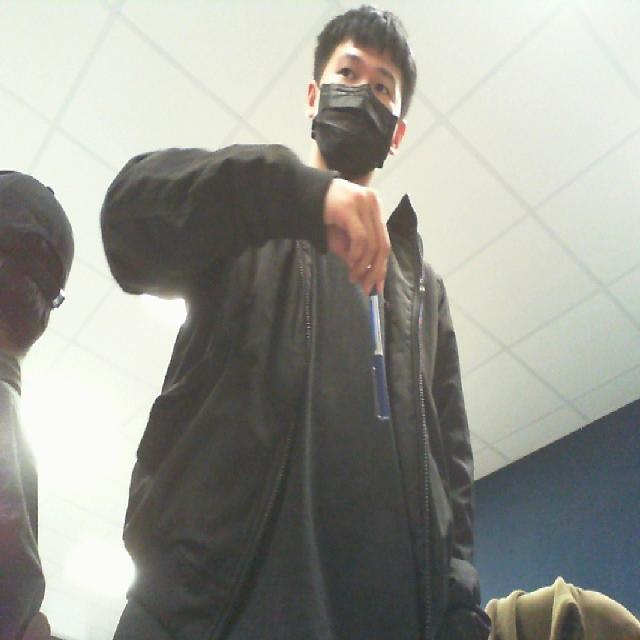Pen: (341, 277, 406, 474)
